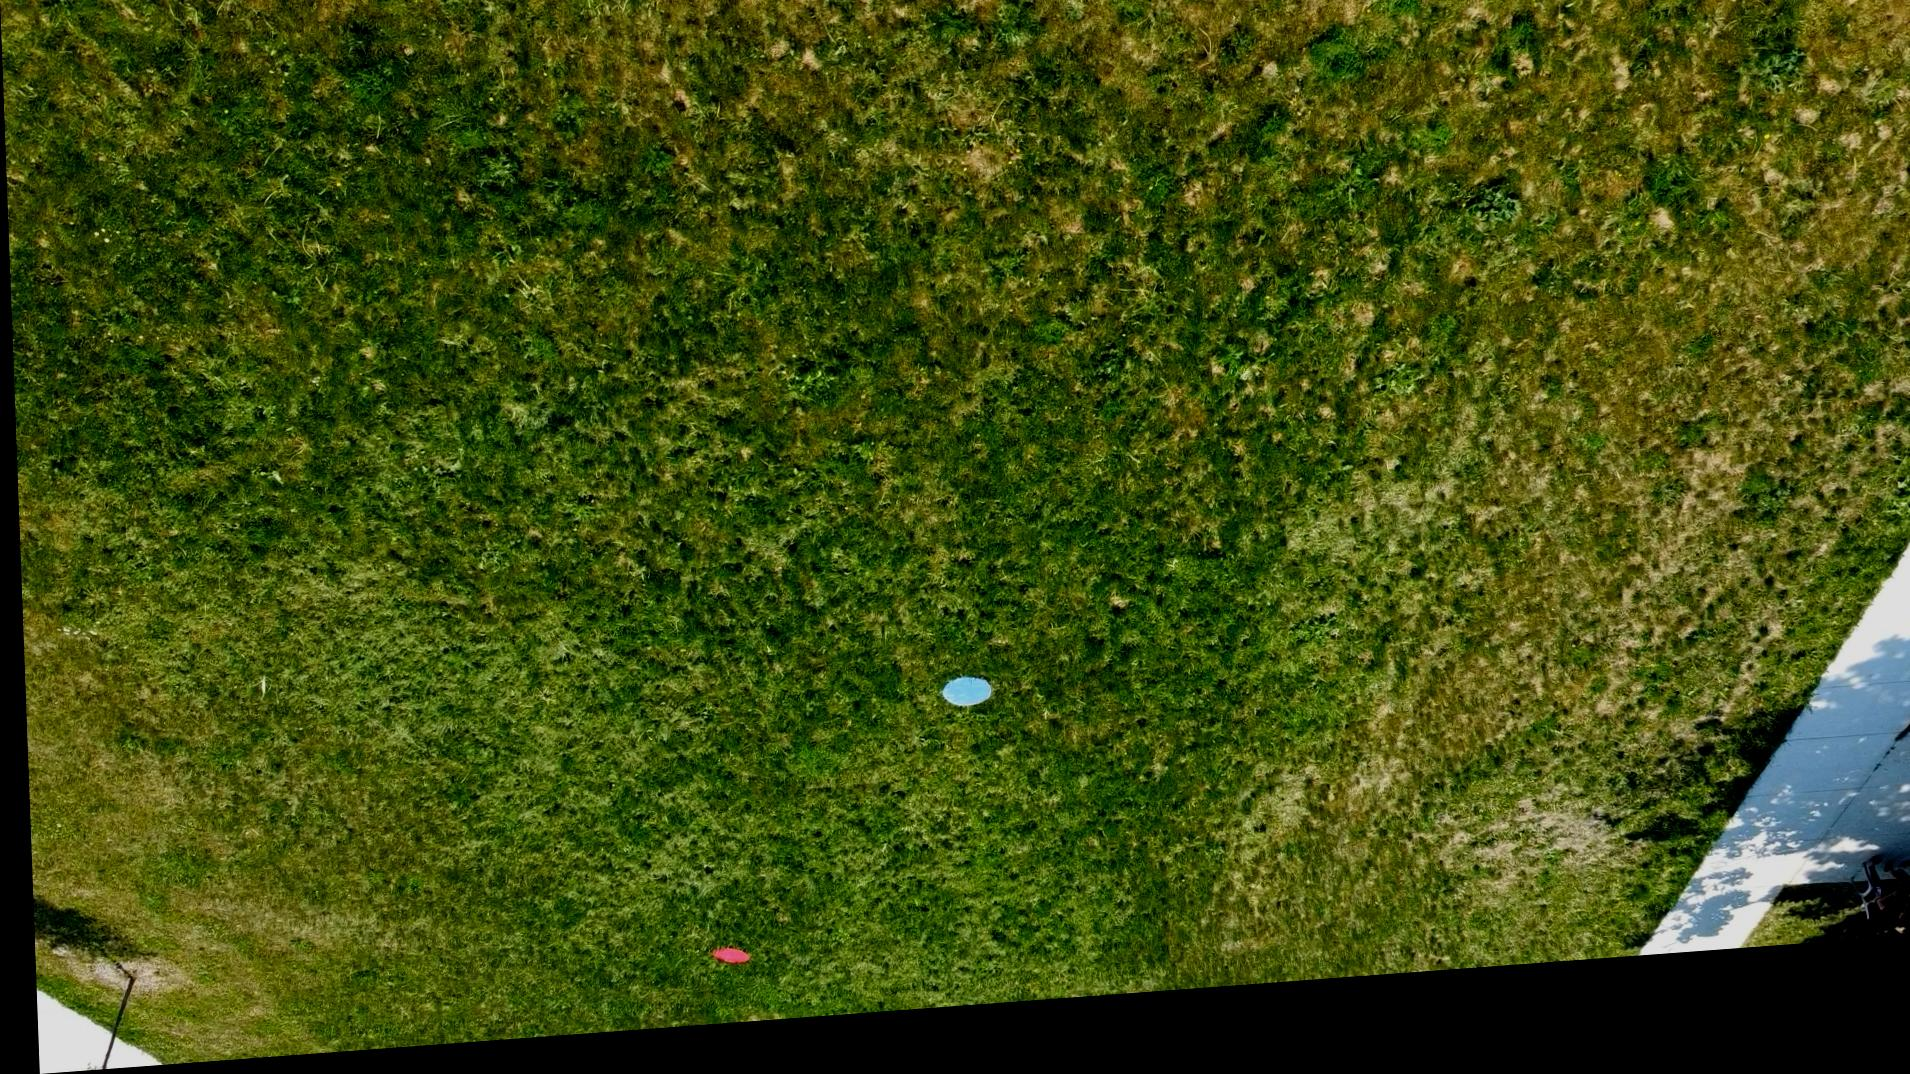Blue: (931, 686, 989, 729)
Red: (695, 953, 744, 981)
